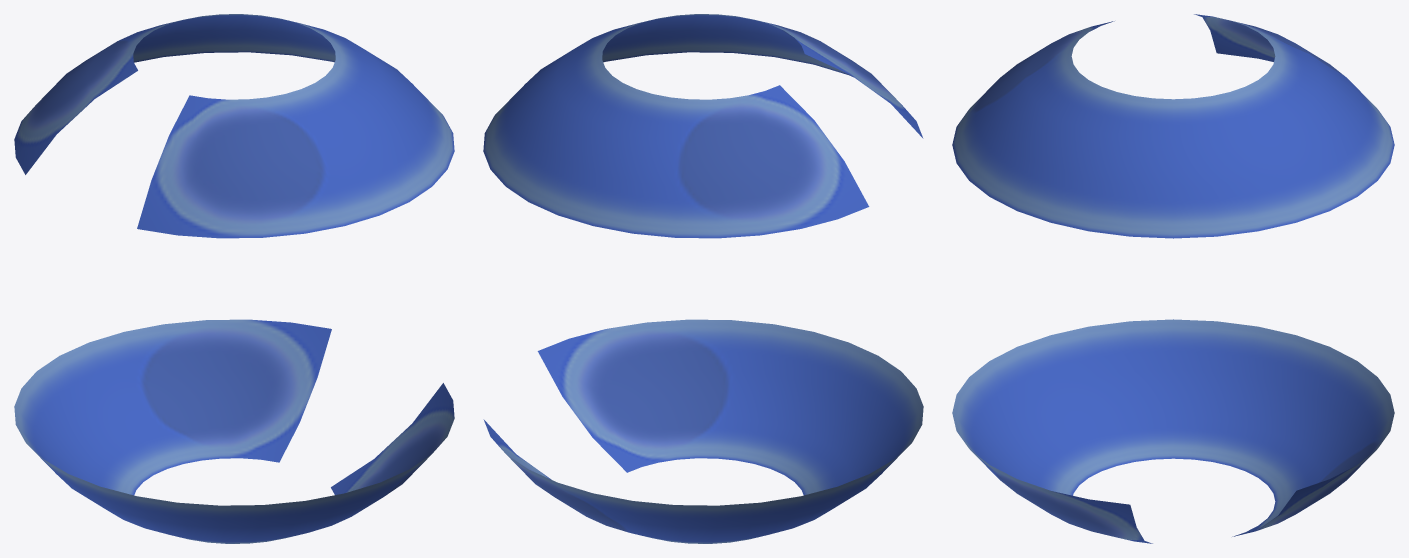
Rendered from geo_sphere_top_bottom.fbx.
The picture shows the model from 3 angles, left to right: view 1: azimuth 30°, elevation 25°; view 2: azimuth 150°, elevation 25°; view 3: azimuth 270°, elevation 25°; orthographic projection.
Parts seen in each view (by area): view 1: geo_sphere_top_bottom; view 2: geo_sphere_top_bottom; view 3: geo_sphere_top_bottom.
Part boxes in pixels (bbox=[...]): geo_sphere_top_bottom: bbox=[14, 14, 454, 543]; geo_sphere_top_bottom: bbox=[483, 14, 923, 543]; geo_sphere_top_bottom: bbox=[952, 14, 1394, 543].
Size of the model in its own units: 665 by 665 by 739.
1 material, 1 textured.
